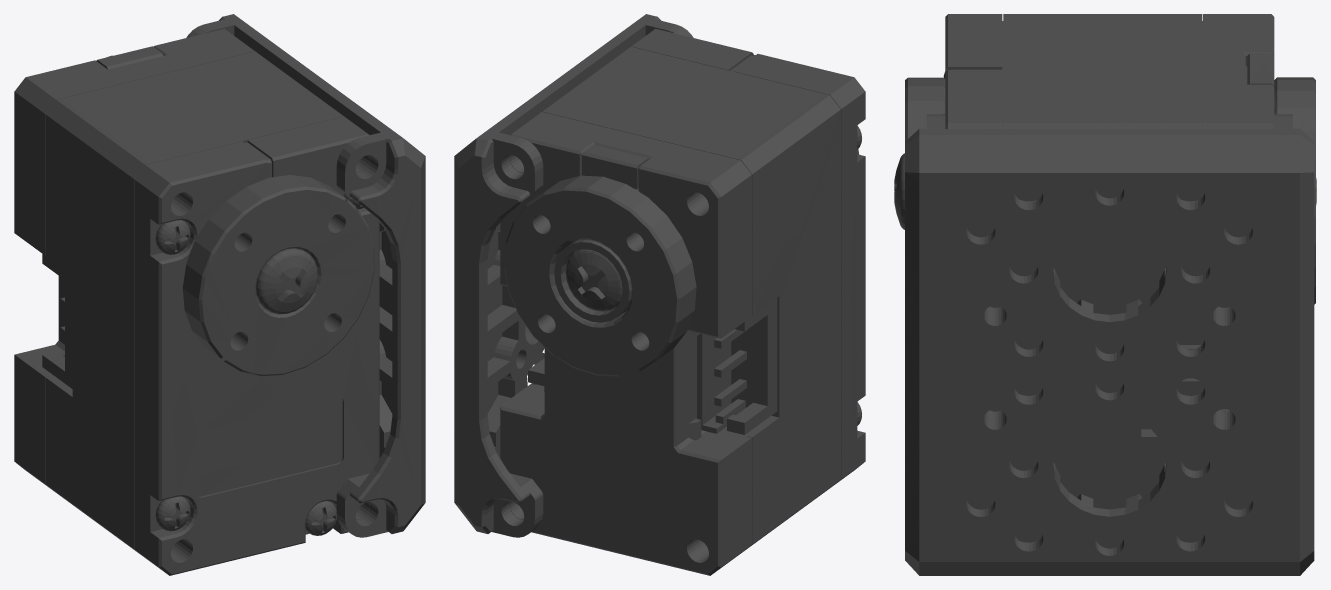
The model's file is pip.dae.
3 views of the same model, side by side, from view 1: azimuth 30°, elevation 25°; view 2: azimuth 150°, elevation 25°; view 3: azimuth 270°, elevation 25° (orthographic). The views are drawn at different scales.
Parts seen in each view (by area): view 1: node; view 2: node; view 3: node.
Part boxes in pixels (x1,y1,x2,y2): node: [14, 14, 425, 575]; node: [454, 14, 865, 575]; node: [894, 14, 1316, 575].
Size of the model in its own units: 0.023 by 0.034 by 0.0295.
1 material, 1 textured.
